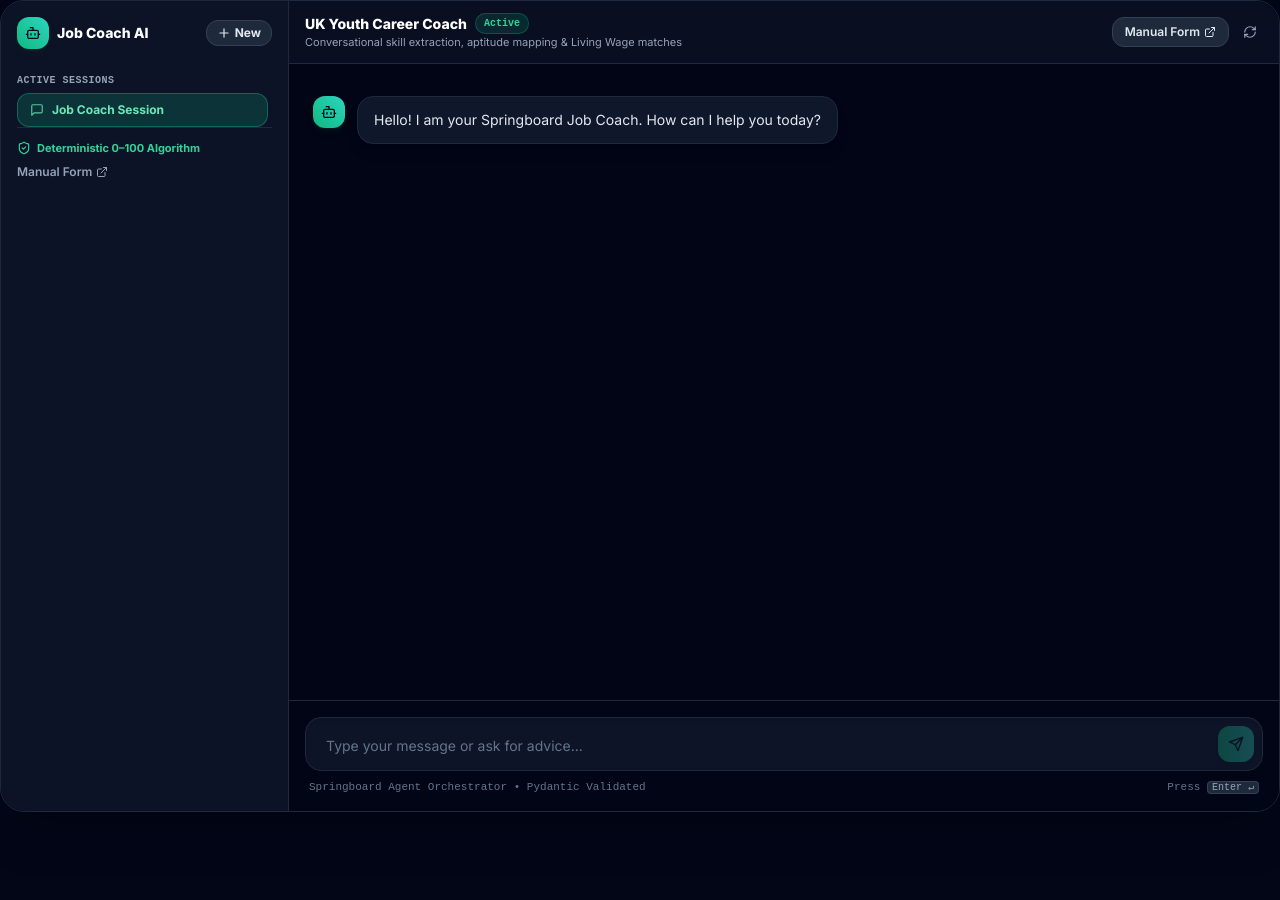
Scenario: AgentChat Component › confirms pending action when user clicks Confirm button
Type "Update my profile" into the text box with placeholder "Type your message or ask for advice..." at x=762, y=746, box [314,730,1210,762]
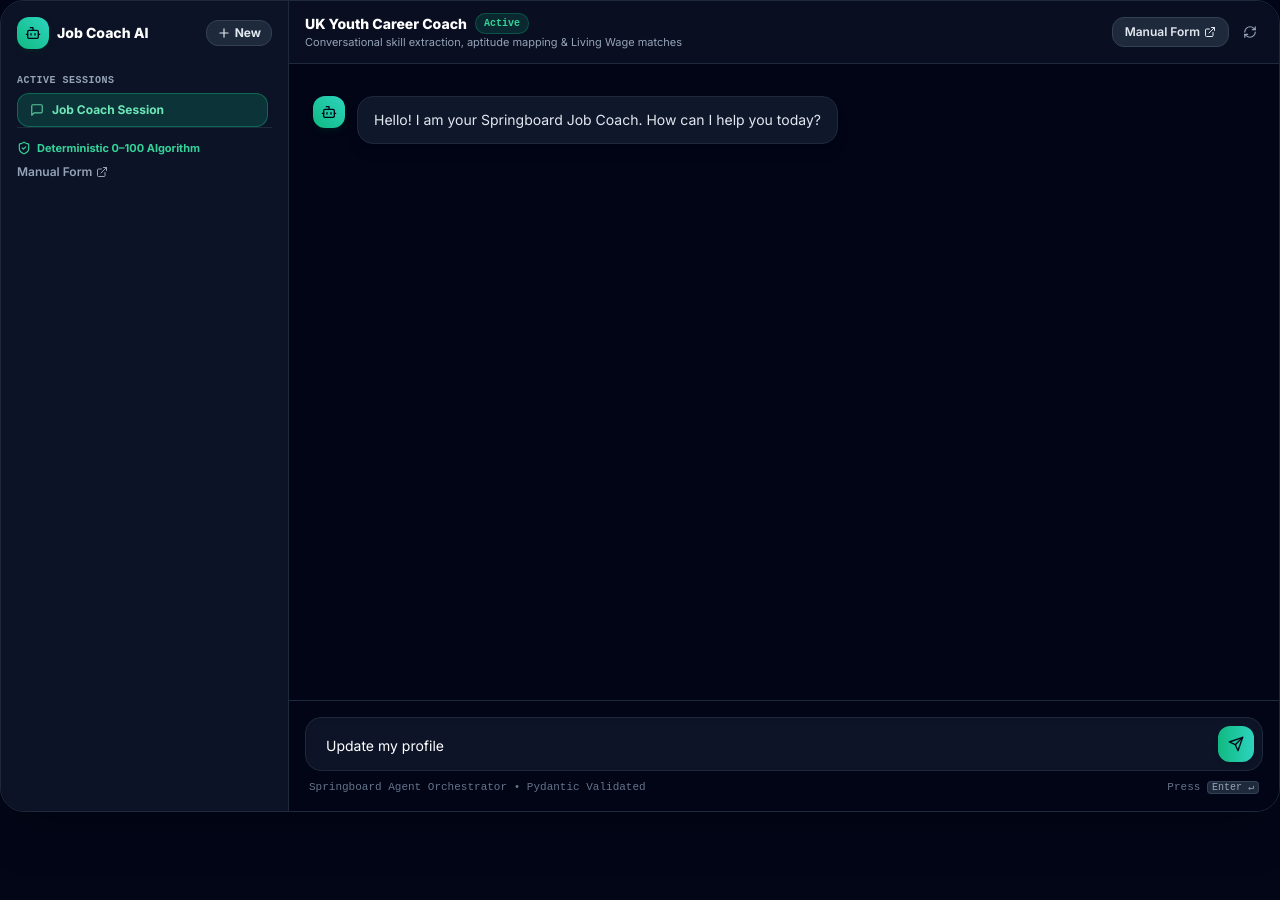
Click the 4th button at x=1236, y=744, box [1218,726,1254,762]
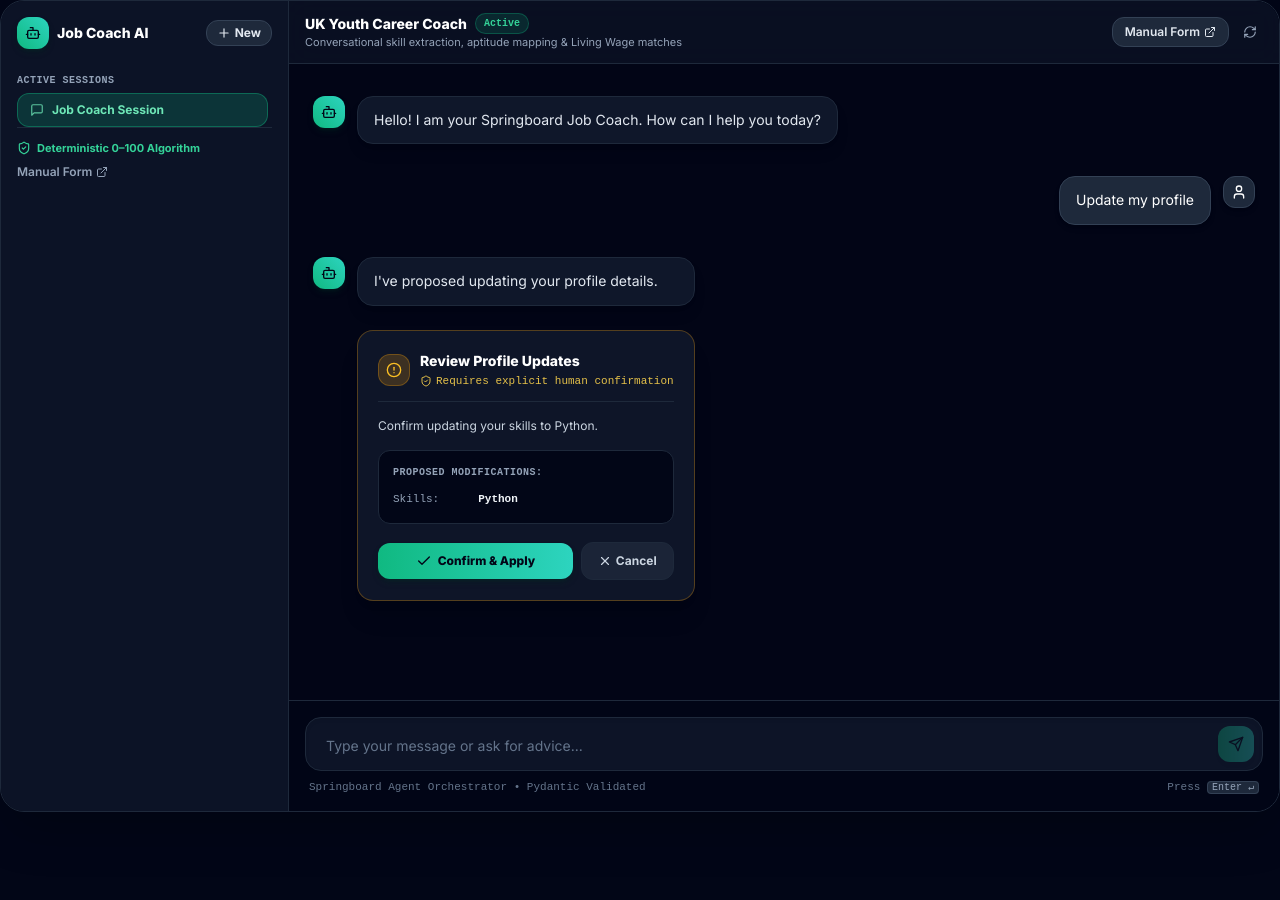
Click the button "Confirm & Apply" at x=475, y=561, box [378,543,573,579]
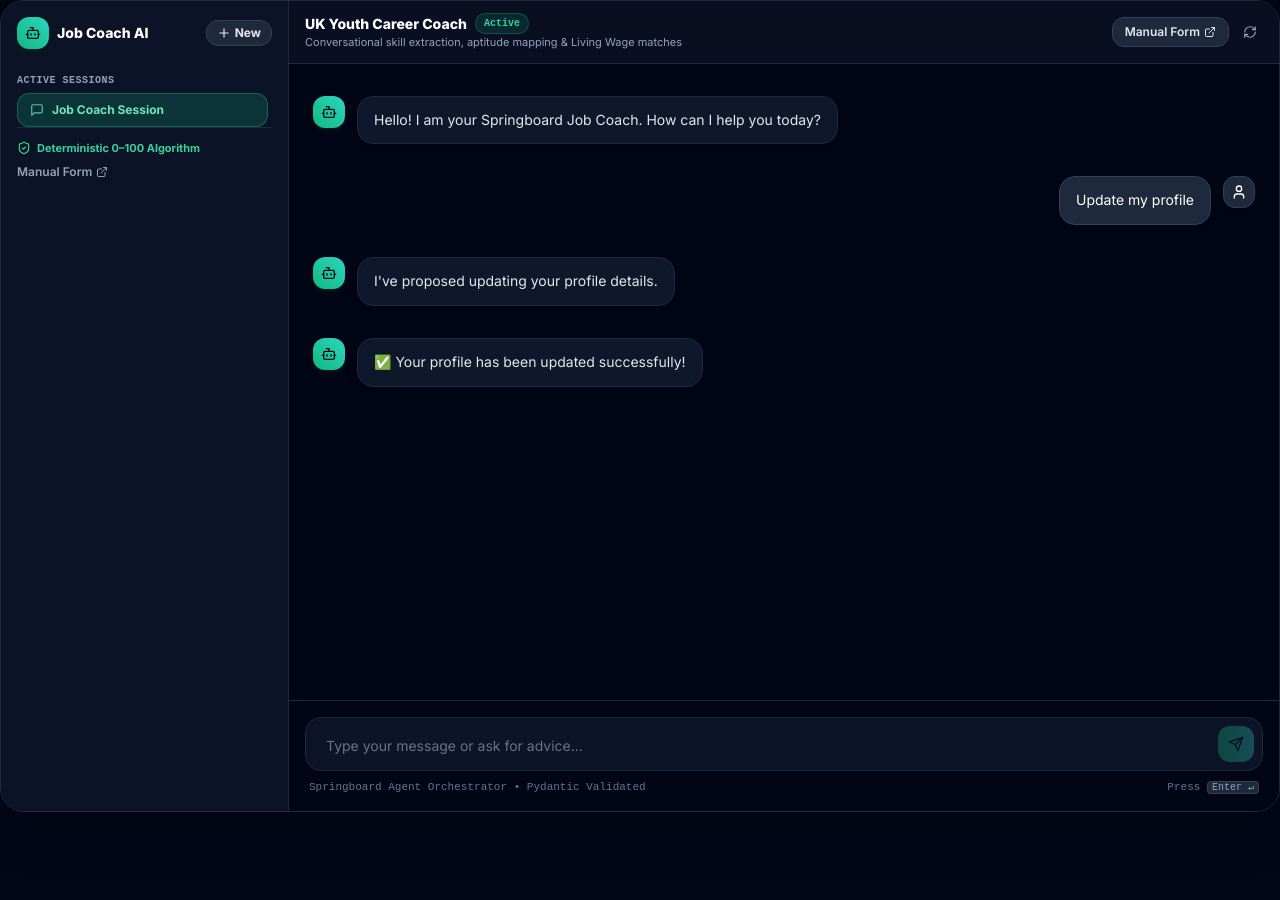
Expected: the text "✅ Your profile has been updated successfully!" is shown, [374,351,686,374]
